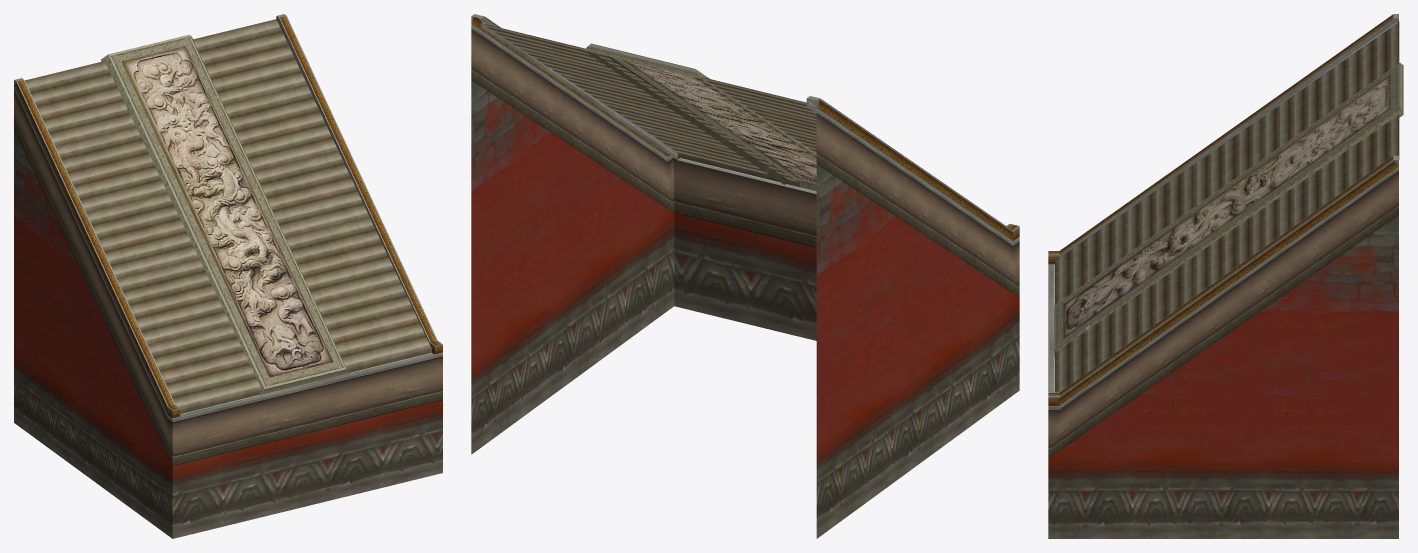
File: environment_common_shijie_003_a.FBX
The picture shows the model from 3 angles, left to right: view 1: azimuth 30°, elevation 25°; view 2: azimuth 150°, elevation 25°; view 3: azimuth 270°, elevation 25°; orthographic projection. The views are drawn at different scales.
Parts seen in each view (by area): view 1: environment_common_shijie_003_a, environment_common_shijie_003_e, environment_common_shijie_003_b, environment_common_shijie_003_c; view 2: environment_common_shijie_003_e, environment_common_shijie_003_c, environment_common_shijie_003_a, environment_common_shijie_003_b; view 3: environment_common_shijie_003_e, environment_common_shijie_003_a, environment_common_shijie_003_c, environment_common_shijie_003_b.
Part boxes in pixels (x1=…): environment_common_shijie_003_a: x1=25, y1=19, x2=431, y2=413; environment_common_shijie_003_e: x1=14, y1=130, x2=442, y2=538; environment_common_shijie_003_b: x1=101, y1=34, x2=348, y2=394; environment_common_shijie_003_c: x1=14, y1=14, x2=442, y2=465; environment_common_shijie_003_e: x1=471, y1=80, x2=1019, y2=538; environment_common_shijie_003_c: x1=471, y1=14, x2=1019, y2=297; environment_common_shijie_003_a: x1=480, y1=23, x2=816, y2=186; environment_common_shijie_003_b: x1=583, y1=43, x2=816, y2=191; environment_common_shijie_003_e: x1=1048, y1=215, x2=1398, y2=538; environment_common_shijie_003_a: x1=1055, y1=21, x2=1399, y2=392; environment_common_shijie_003_c: x1=1048, y1=14, x2=1398, y2=457; environment_common_shijie_003_b: x1=1054, y1=63, x2=1403, y2=357.
Size of the model in its own units: 1043 by 1271 by 1074.
Materials: 4 (4 with a texture image).
